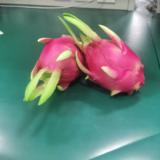pitaya: (75, 24, 147, 96), (26, 35, 84, 104)
